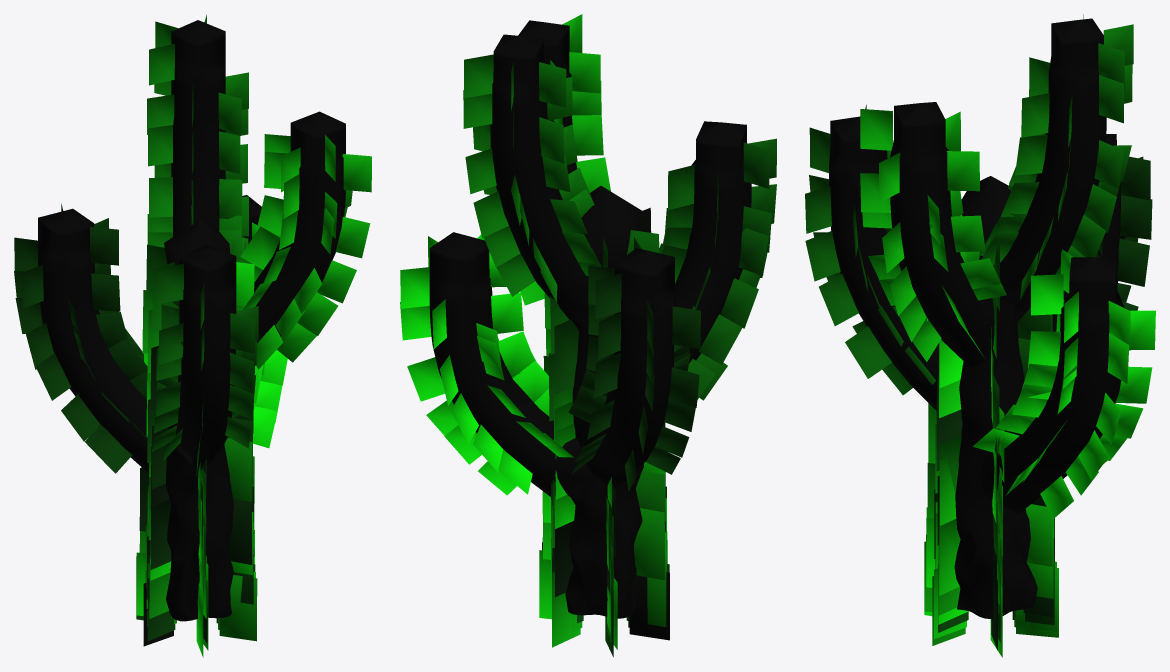
The model's file is Cactus_1_9.fbx.
3 renders of one model, left to right at view 1: azimuth 30°, elevation 25°; view 2: azimuth 150°, elevation 25°; view 3: azimuth 270°, elevation 25°, orthographic. The views are drawn at different scales.
Visible parts, largest first — view 1: Cactus_1_9; view 2: Cactus_1_9; view 3: Cactus_1_9.
Part boxes in pixels (x1=…): Cactus_1_9: x1=14, y1=14, x2=371, y2=657; Cactus_1_9: x1=400, y1=14, x2=776, y2=657; Cactus_1_9: x1=805, y1=14, x2=1155, y2=657.
Bounding box in the file's own units: 155 × 316 × 160.
